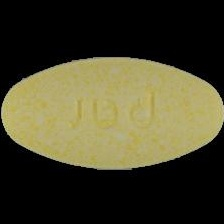54868-0077: (0, 0, 224, 224)
